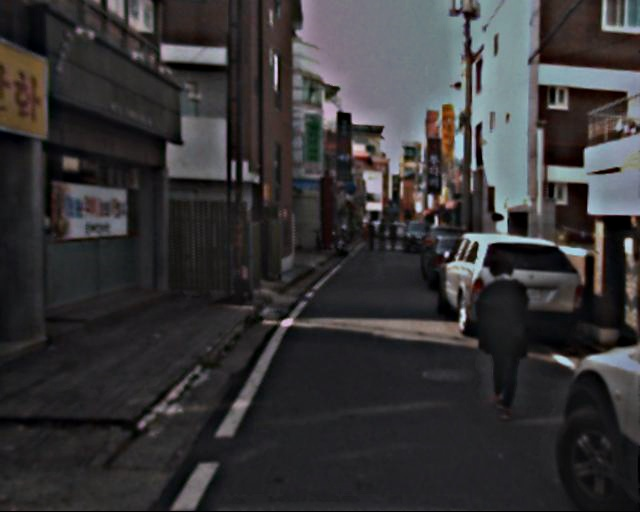person: (465, 252, 538, 420), (369, 216, 402, 253)
